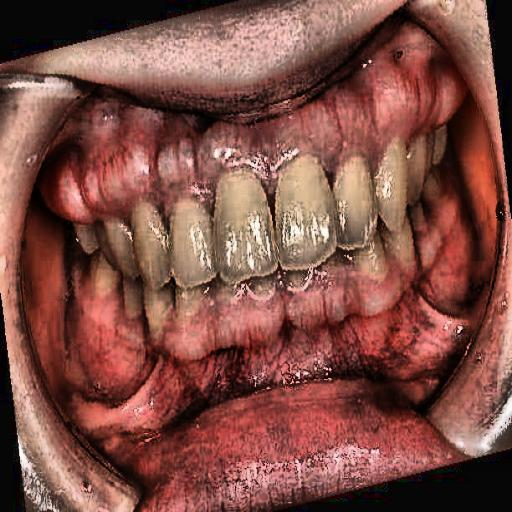Gingivitis: (87, 285, 452, 401), (44, 107, 226, 229), (302, 54, 479, 170), (390, 192, 508, 285)
